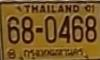0: (44, 15, 56, 42)
4: (58, 15, 70, 42)
6: (7, 16, 19, 43), (72, 15, 82, 42)
8: (21, 15, 33, 43), (85, 15, 96, 42)
BKK: (22, 48, 85, 58)
